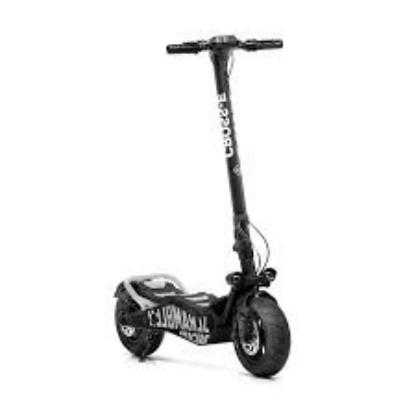bike: (113, 36, 291, 380)
